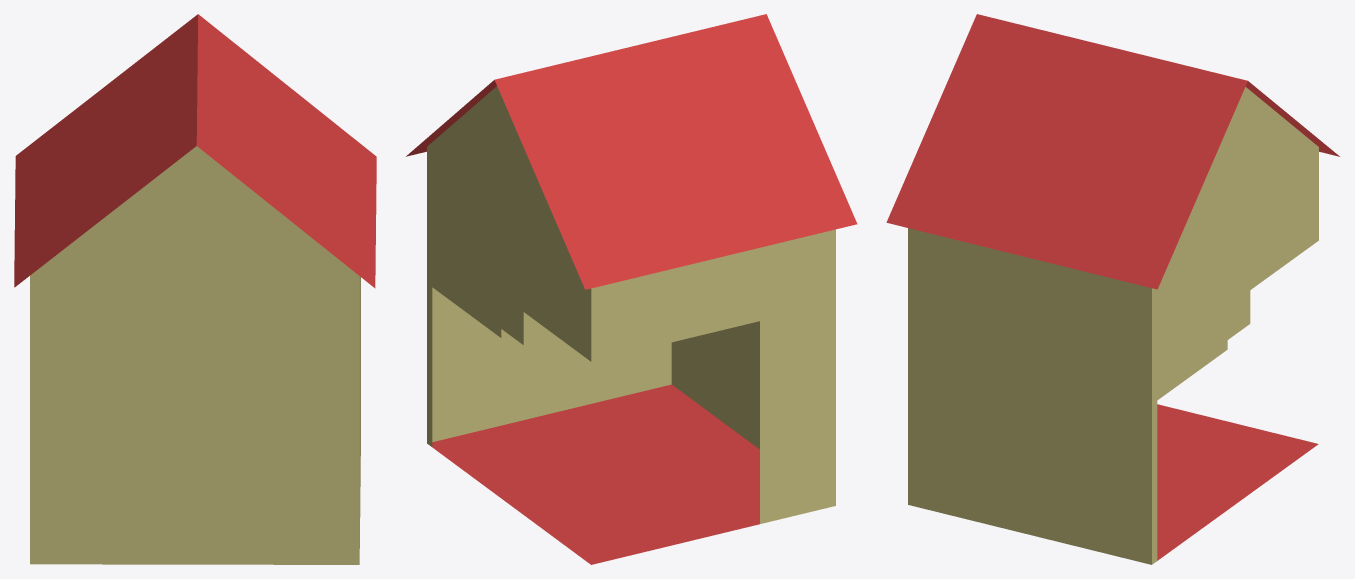
3 renders of one model, left to right at view 1: azimuth 30°, elevation 25°; view 2: azimuth 150°, elevation 25°; view 3: azimuth 270°, elevation 25°, orthographic.
Bounding box in the file's own units: 14.87 × 14.31 × 14.87.
